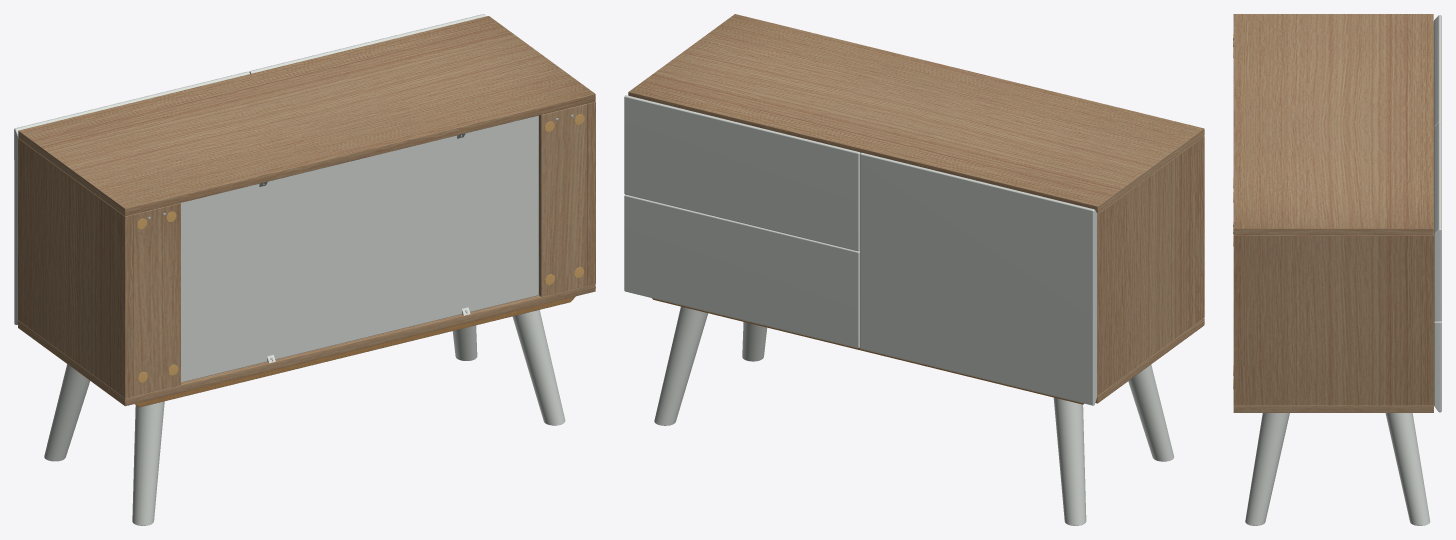
Rendered from abo_B07QHKJP7P.glb.
3 renders of one model, left to right at view 1: azimuth 30°, elevation 25°; view 2: azimuth 150°, elevation 25°; view 3: azimuth 270°, elevation 25°, orthographic. The views are drawn at different scales.
Visible parts, largest first — view 1: RootNode; view 2: RootNode; view 3: RootNode.
Part boxes in pixels (x1,y1,x2,y2): RootNode: [14, 14, 595, 525]; RootNode: [624, 14, 1204, 525]; RootNode: [1233, 14, 1441, 525].
Size of the model in its own units: 0.9906 by 0.6604 by 0.4073.
Materials: 1 (1 with a texture image).
